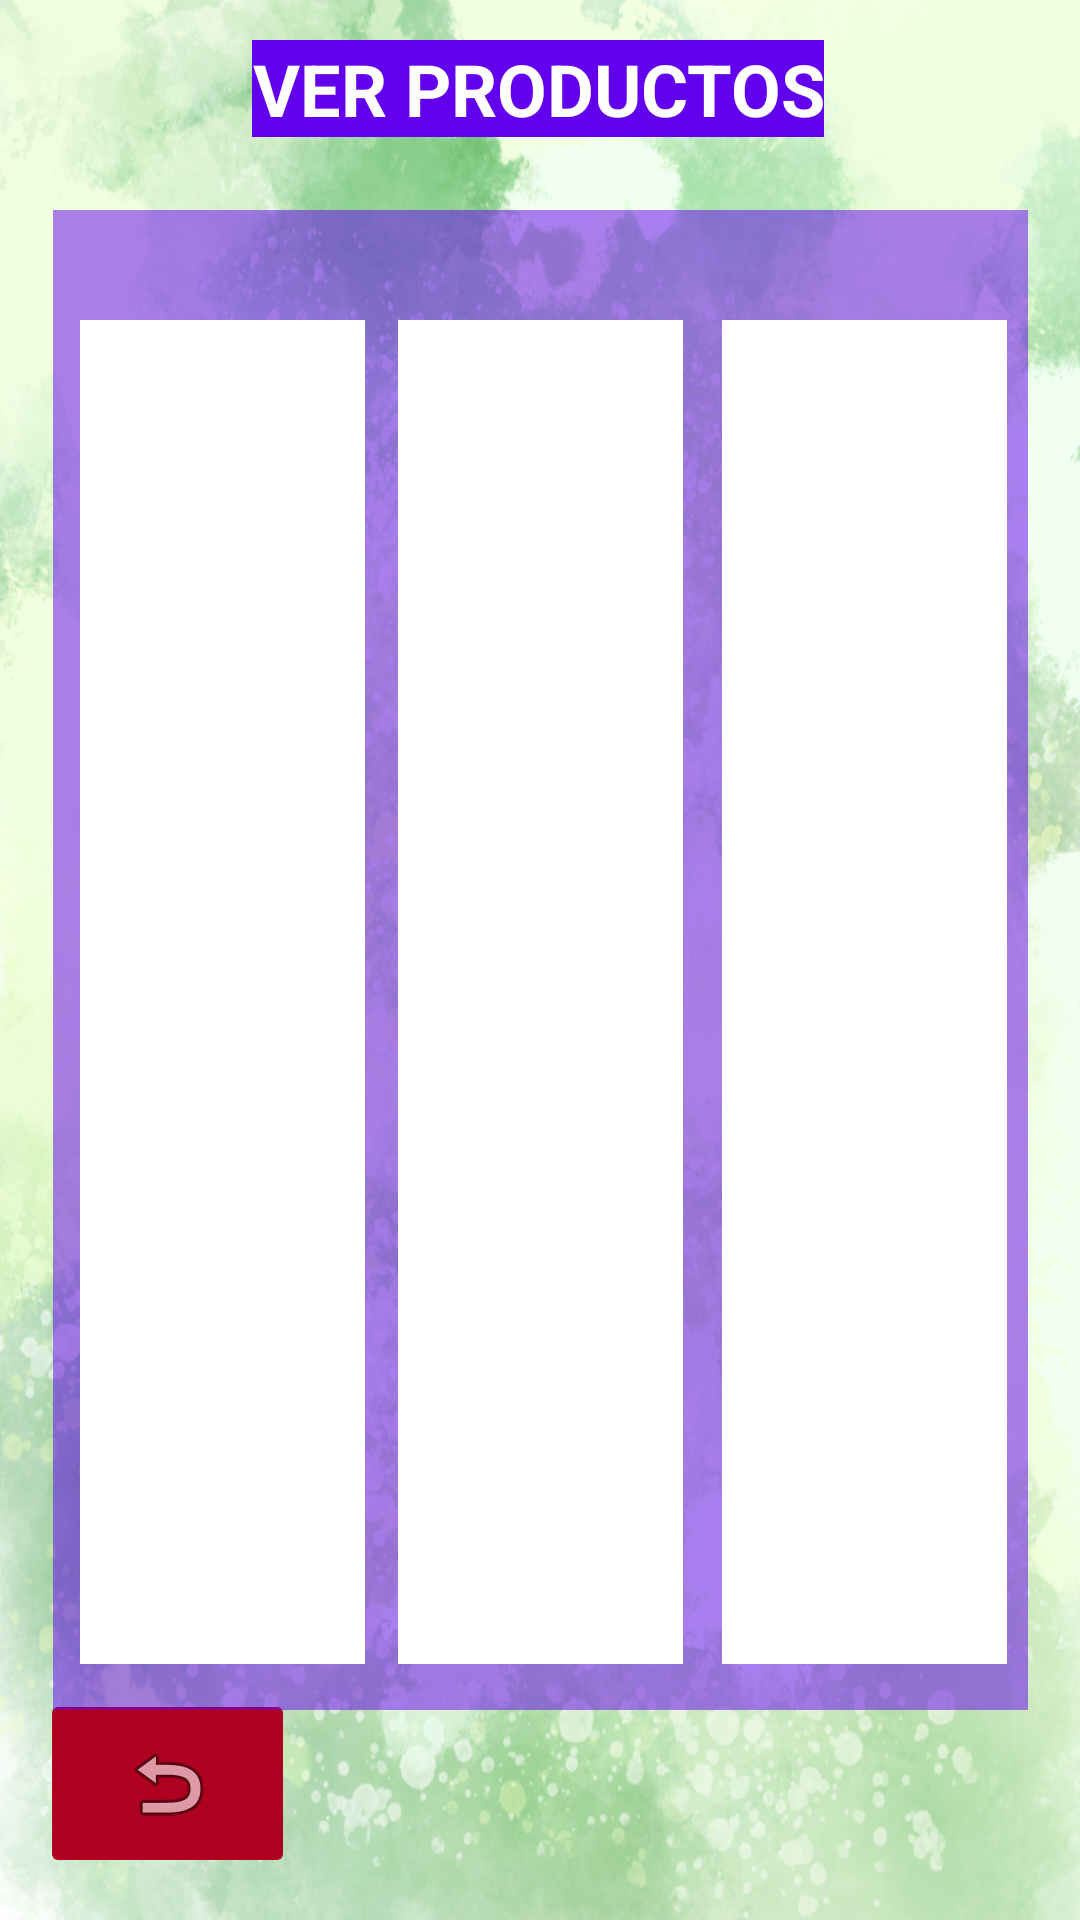

Named icons in this screenshot (1080px x 1920px) and their centers, (x=x, y=y):
Volver: (x=167, y=1783)
